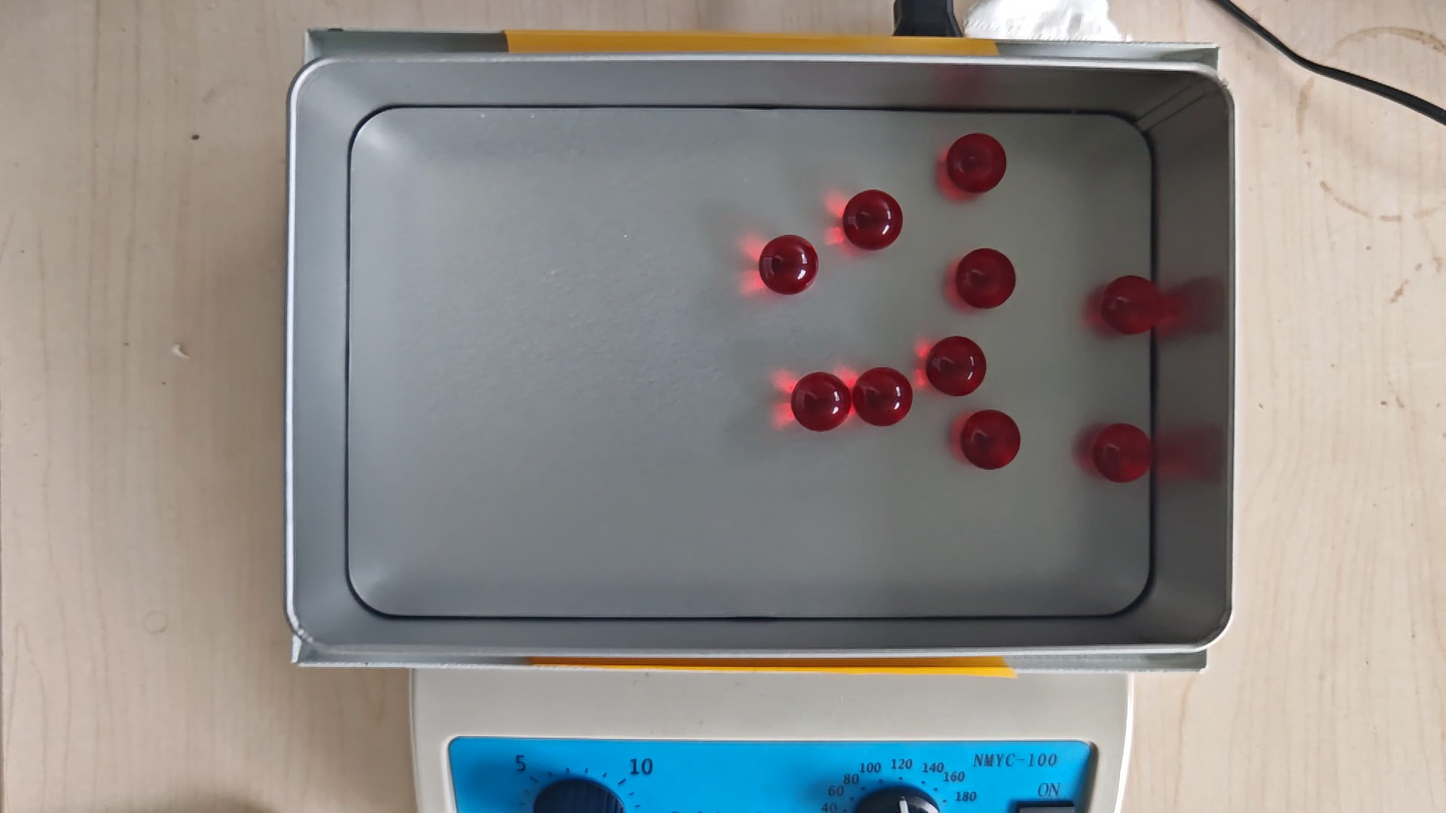ball: (961, 408, 1022, 471), (926, 334, 987, 397), (1092, 423, 1153, 485), (956, 248, 1016, 310), (792, 371, 851, 434), (759, 234, 818, 296), (844, 189, 903, 251), (948, 132, 1007, 194), (1101, 275, 1159, 337), (854, 368, 913, 428)
container: (347, 107, 1153, 618)
